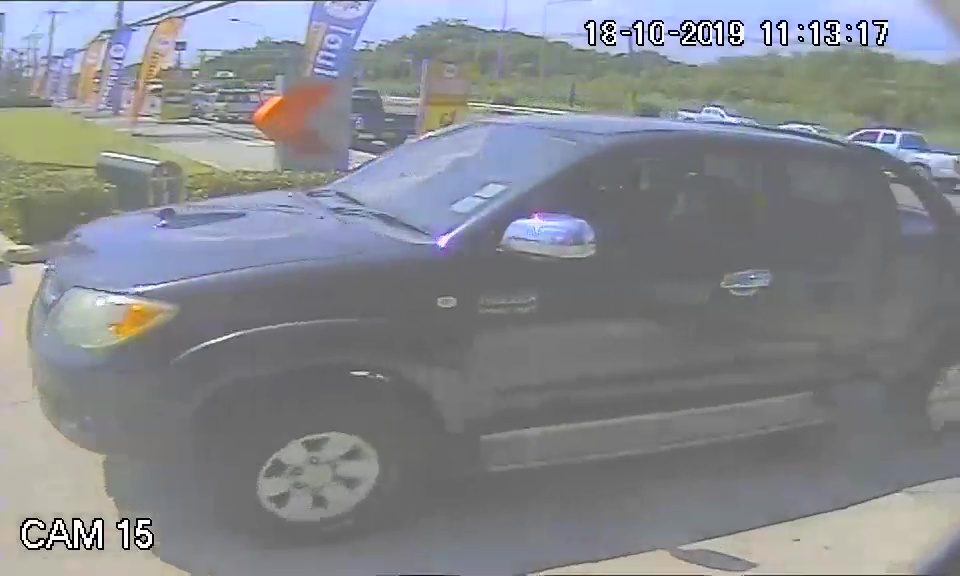pickup: (25, 114, 960, 528)
